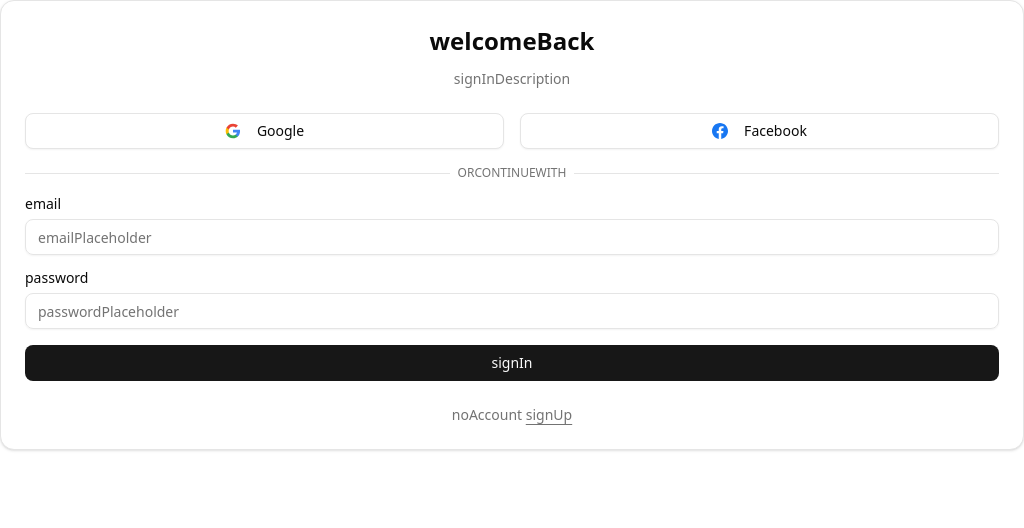
Test: SignInPage › handles invalid credentials error
Step 1. Type "test@example.com" into the field with test id "email-input" → (512, 237), box [25,219,999,255]
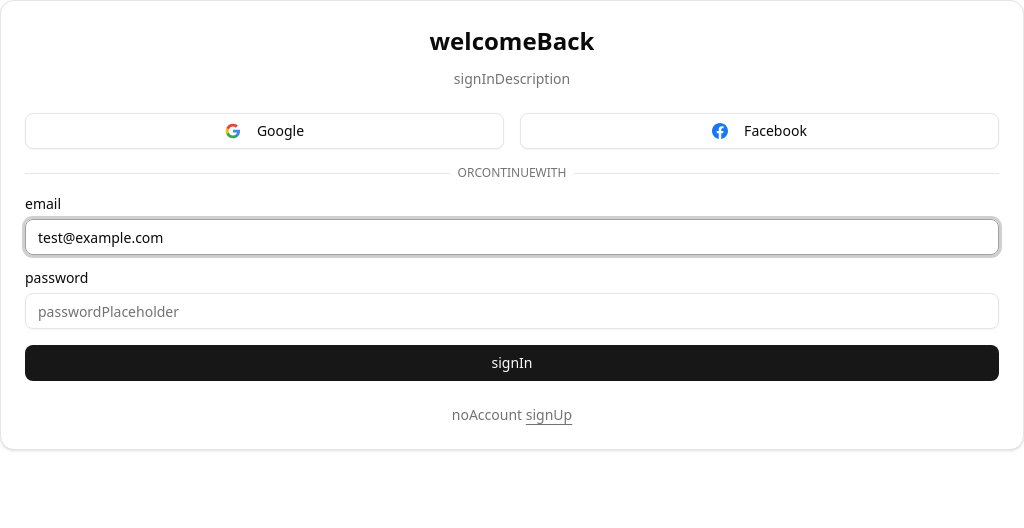
Step 2. Type "wrong" into the password field with test id "password-input" → (512, 311), box [25,293,999,329]
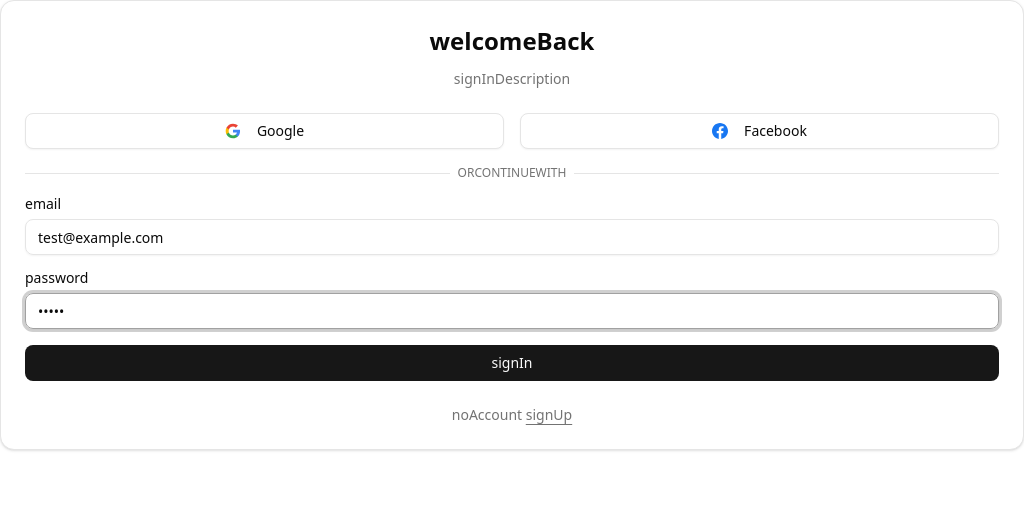
Step 3. Click the button with test id "signin-submit" → (512, 363), box [25,345,999,381]
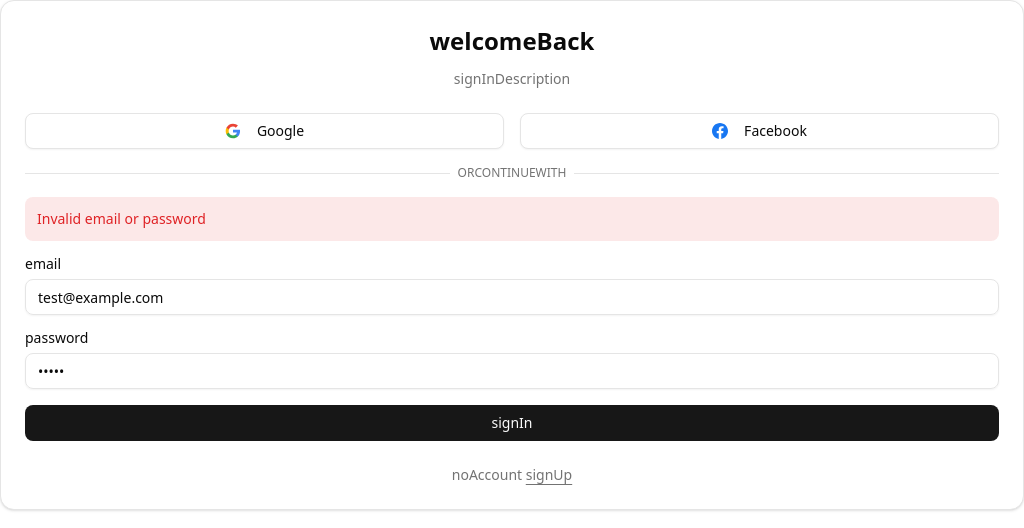
Check: the text with test id "signin-error" reads "Invalid email or password", box [37,209,206,228]
